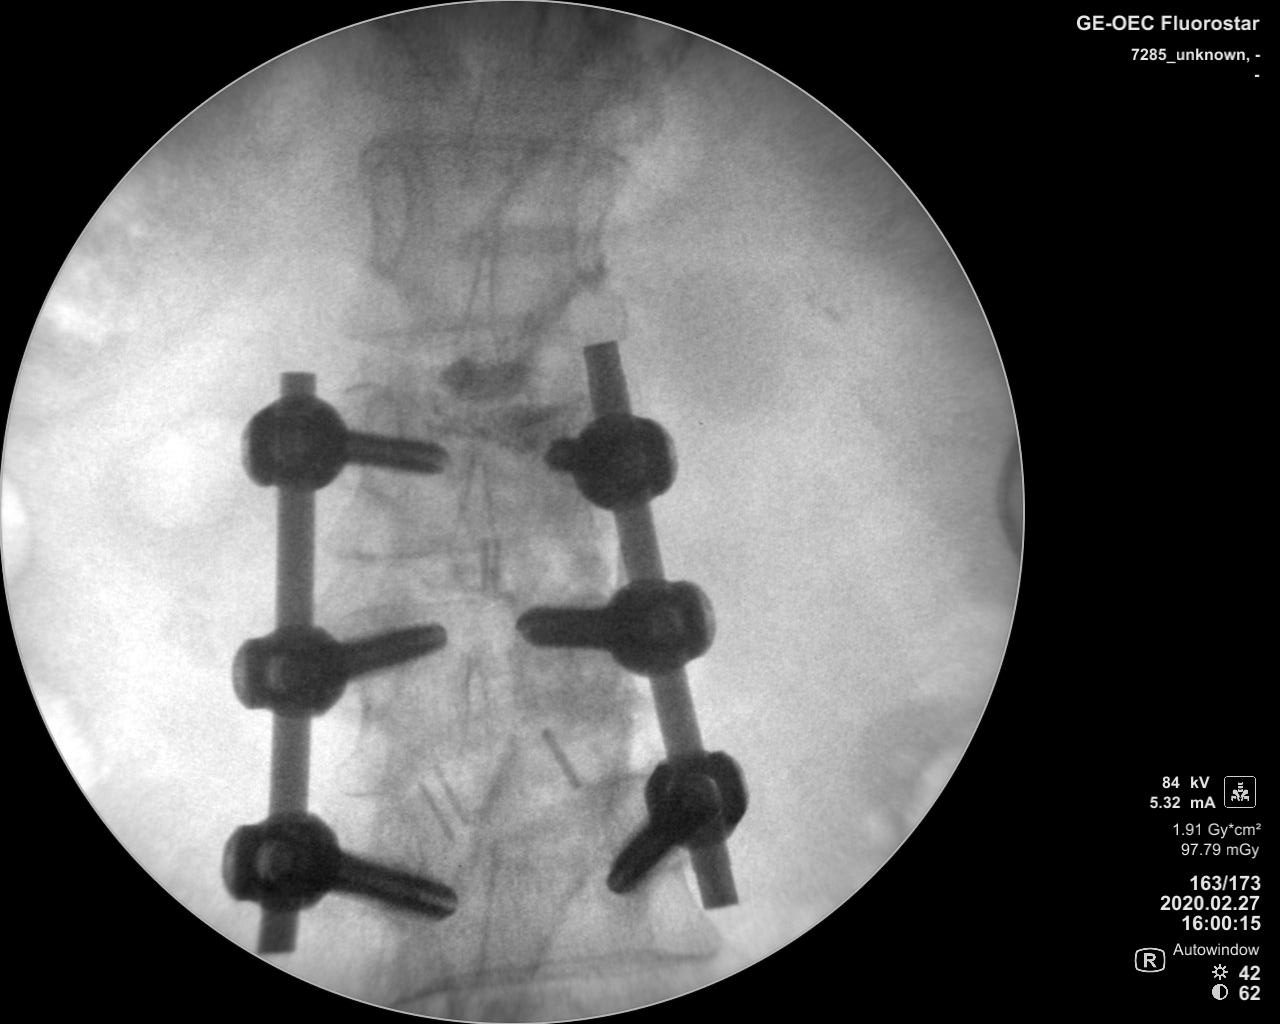eyes: (369, 156, 415, 275), (571, 160, 611, 282), (360, 386, 402, 496), (351, 639, 395, 716)
line: (392, 950, 721, 1007), (324, 525, 610, 566), (369, 127, 630, 162), (341, 318, 586, 351)
nose: (461, 49, 516, 213), (449, 226, 506, 376), (447, 442, 502, 591), (457, 643, 498, 778)
